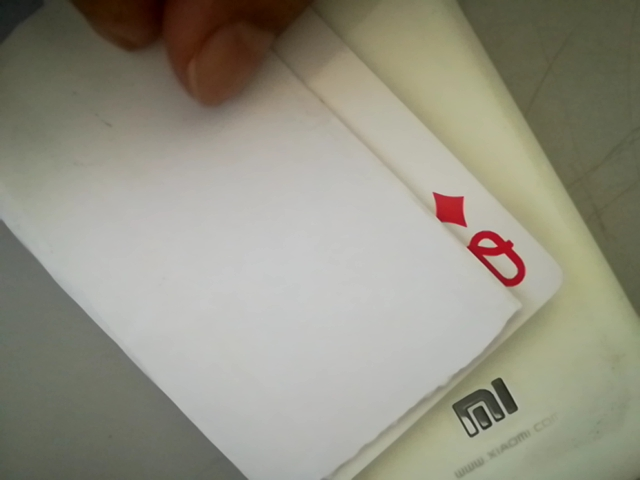fk q: (422, 187, 544, 294)
